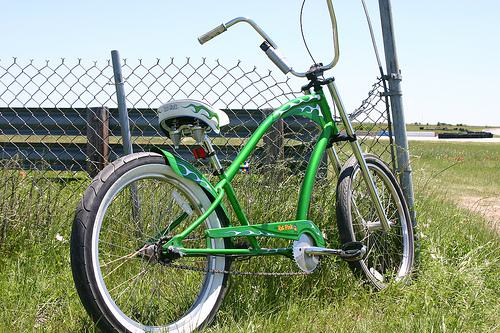car: (71, 1, 417, 333)
